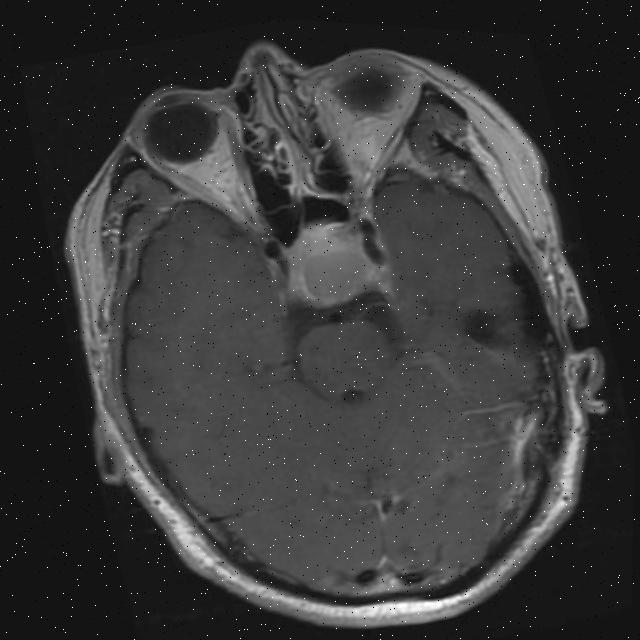Pituitary: (276, 205, 381, 318)
